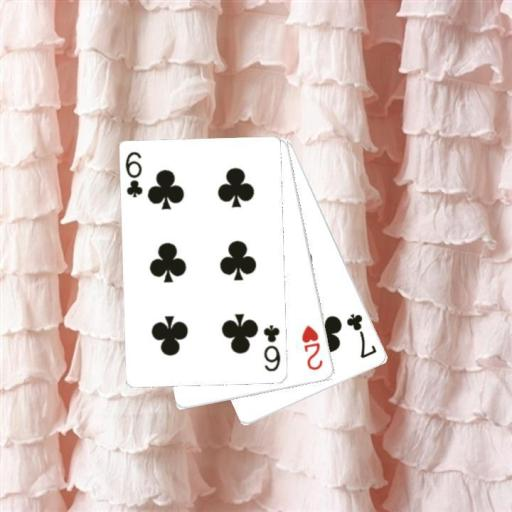2H: (299, 322, 325, 373)
6C: (261, 322, 283, 373), (123, 149, 145, 200)
7C: (344, 310, 379, 360)
